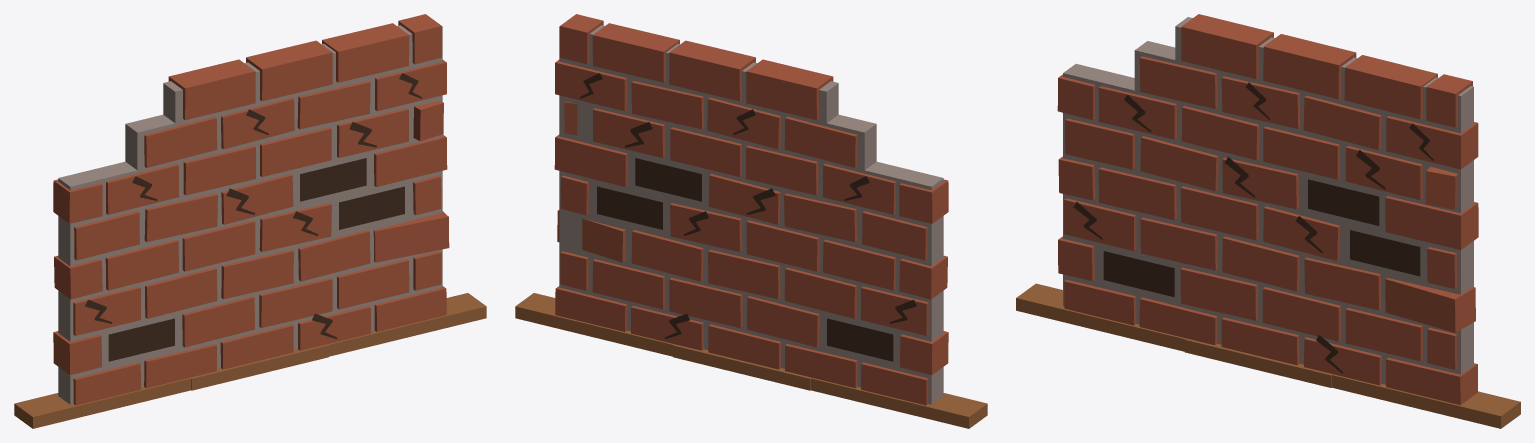
The model's file is wall_brick_tiles_crack2.glb.
The picture shows the model from 3 angles, left to right: view 1: azimuth 30°, elevation 25°; view 2: azimuth 150°, elevation 25°; view 3: azimuth 330°, elevation 25°; orthographic projection. The views are drawn at different scales.
Visible parts, largest first — view 1: T1, T5, T3, T7, T0, B8Hi, TrimD, A6Hi, B0Hi, A4Lo, A6Lo, A4Hi (+11 smaller); view 2: T1, T5, T3, T7, B0Hi, B8Hi, A6Hi, TrimD, T0, A6Lo, A4Hi, B8Lo (+11 smaller); view 3: T1, T3, T5, T7, B0Hi, B0Lo, A6Hi, T0, B8Hi, TrimD, A4Hi, B8Lo (+11 smaller).
Part boxes in pixels (box(x1,y1,x2,y2)): T1: box(180, 43, 321, 184); T5: box(53, 184, 195, 312); T3: box(319, 125, 448, 252); T7: box(193, 252, 321, 375); T0: box(319, 22, 446, 149); B8Hi: box(53, 283, 195, 404); TrimD: box(14, 293, 486, 428); A6Hi: box(322, 225, 449, 316); B0Hi: box(305, 14, 441, 153); A4Lo: box(193, 185, 321, 282); A6Lo: box(319, 253, 439, 345); A4Hi: box(196, 153, 321, 251); T1: box(680, 43, 821, 184); T5: box(806, 184, 948, 312); T3: box(554, 122, 682, 252); T7: box(680, 252, 808, 375); B0Hi: box(560, 14, 696, 153); B8Hi: box(806, 283, 948, 405); A6Hi: box(555, 219, 679, 316); TrimD: box(515, 293, 987, 428); T0: box(555, 23, 682, 152); A6Lo: box(562, 253, 682, 345); A4Hi: box(680, 153, 805, 251); B8Lo: box(806, 284, 923, 404); T1: box(1192, 17, 1344, 167); T3: box(1327, 167, 1478, 308); T5: box(1057, 102, 1194, 240); T7: box(1192, 240, 1329, 372); B0Hi: box(1327, 49, 1472, 167); B0Lo: box(1327, 86, 1478, 199); A6Hi: box(1327, 273, 1477, 405); T0: box(1327, 57, 1476, 197); B8Hi: box(1058, 206, 1191, 308); TrimD: box(1016, 283, 1520, 428); A4Hi: box(1193, 135, 1329, 272); B8Lo: box(1066, 241, 1194, 339).
Size of the model in its own units: 4.8 by 3.06 by 0.398.
